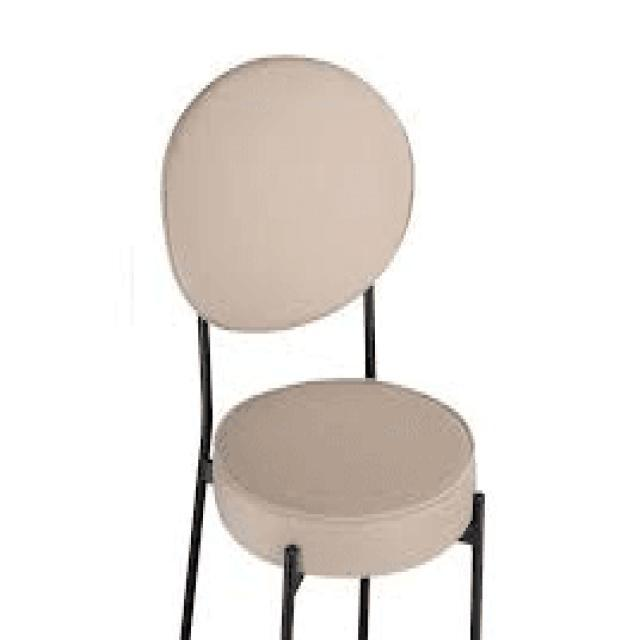chair: (156, 48, 486, 640), (156, 53, 475, 580)
